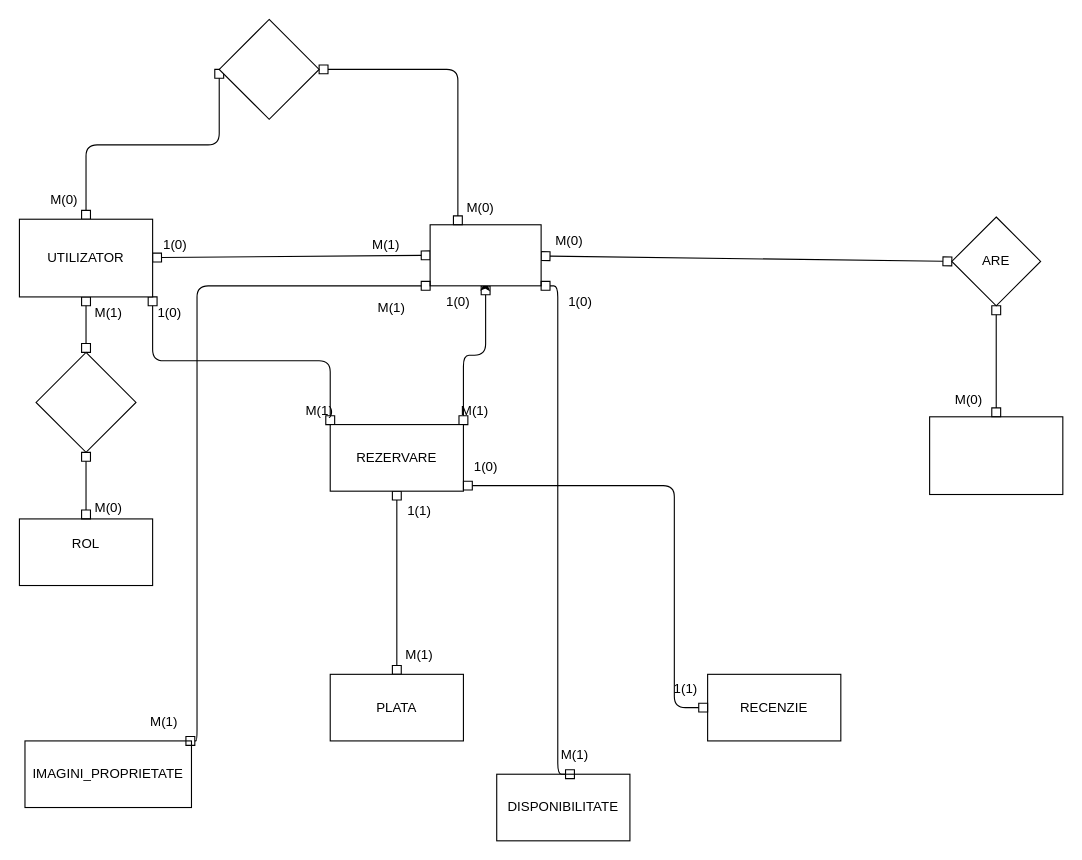
The diagram is 1082 pixels wide and 860 high, and some of its shapes have lost their labels. Here are the shapes that lost their labels. From the top down, the box of each, then its label:
(218, 18, 319, 119): WISHLIST
(429, 224, 541, 286): PROPRIETATE
(35, 351, 136, 452): ARE_ROL
(929, 416, 1063, 495): FACILITATE
